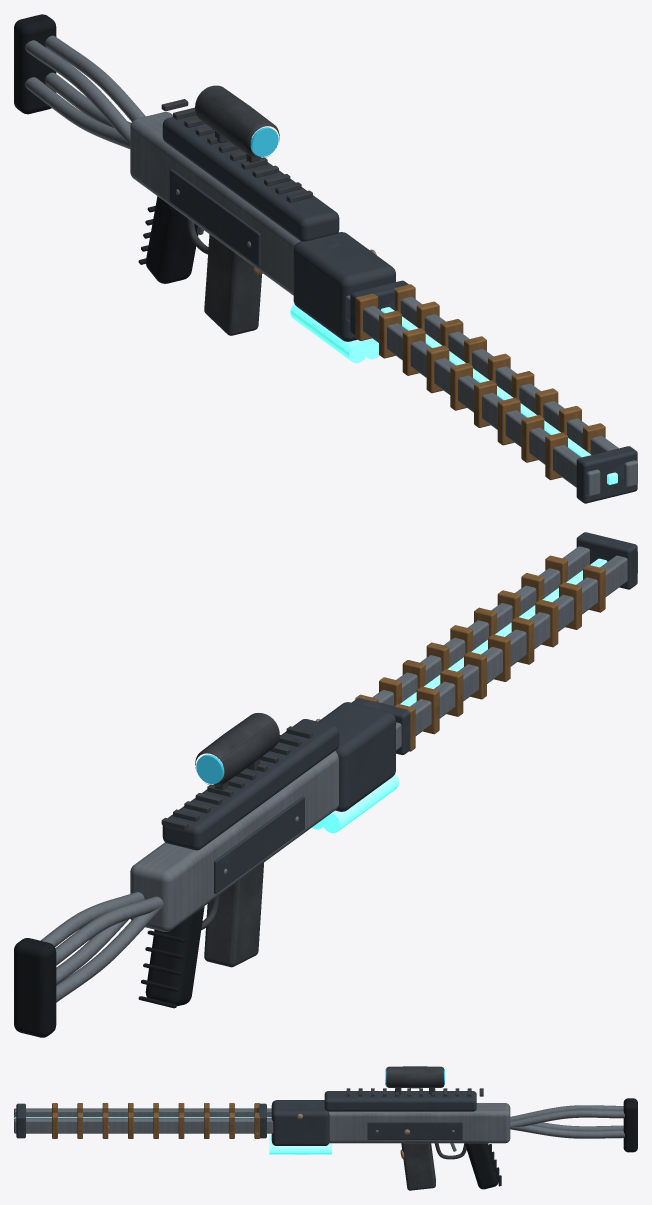
Rendered from railgun.glb.
3 views of the same model, one above another, from view 1: azimuth 30°, elevation 25°; view 2: azimuth 150°, elevation 25°; view 3: azimuth 270°, elevation 25° (orthographic). The views are drawn at different scales.
Visible parts, largest first — view 1: alloy / machined anodized alloy, ceramic / ceramic composite panel, darksteel / oil-blackened fittings, bronze / cast bronze with patina, polymer / stippled polymer, energy / emissive field channel; view 2: alloy / machined anodized alloy, ceramic / ceramic composite panel, darksteel / oil-blackened fittings, bronze / cast bronze with patina, polymer / stippled polymer, energy / emissive field channel; view 3: alloy / machined anodized alloy, ceramic / ceramic composite panel, darksteel / oil-blackened fittings, bronze / cast bronze with patina, polymer / stippled polymer, energy / emissive field channel.
Boxes of the visible parts, x1,y1,x2,y2 form: alloy / machined anodized alloy: [24, 35, 637, 496]; ceramic / ceramic composite panel: [162, 115, 637, 503]; darksteel / oil-blackened fittings: [161, 85, 312, 335]; bronze / cast bronze with patina: [355, 284, 605, 480]; polymer / stippled polymer: [14, 14, 198, 283]; energy / emissive field channel: [290, 304, 617, 484]; alloy / machined anodized alloy: [40, 546, 637, 1002]; ceramic / ceramic composite panel: [162, 532, 637, 893]; darksteel / oil-blackened fittings: [161, 713, 312, 967]; bronze / cast bronze with patina: [355, 555, 605, 751]; polymer / stippled polymer: [14, 907, 203, 1037]; energy / emissive field channel: [312, 558, 607, 833]; alloy / machined anodized alloy: [14, 1103, 624, 1151]; ceramic / ceramic composite panel: [16, 1091, 476, 1145]; darksteel / oil-blackened fittings: [346, 1066, 483, 1190]; bronze / cast bronze with patina: [52, 1103, 260, 1138]; polymer / stippled polymer: [465, 1098, 637, 1189]; energy / emissive field channel: [14, 1117, 331, 1154].
Size of the model in its own units: 0.0745 by 0.2751 by 1.29.
Materials: 9 (5 with a texture image).
